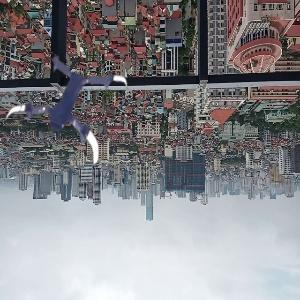drone: (6, 54, 124, 172)
